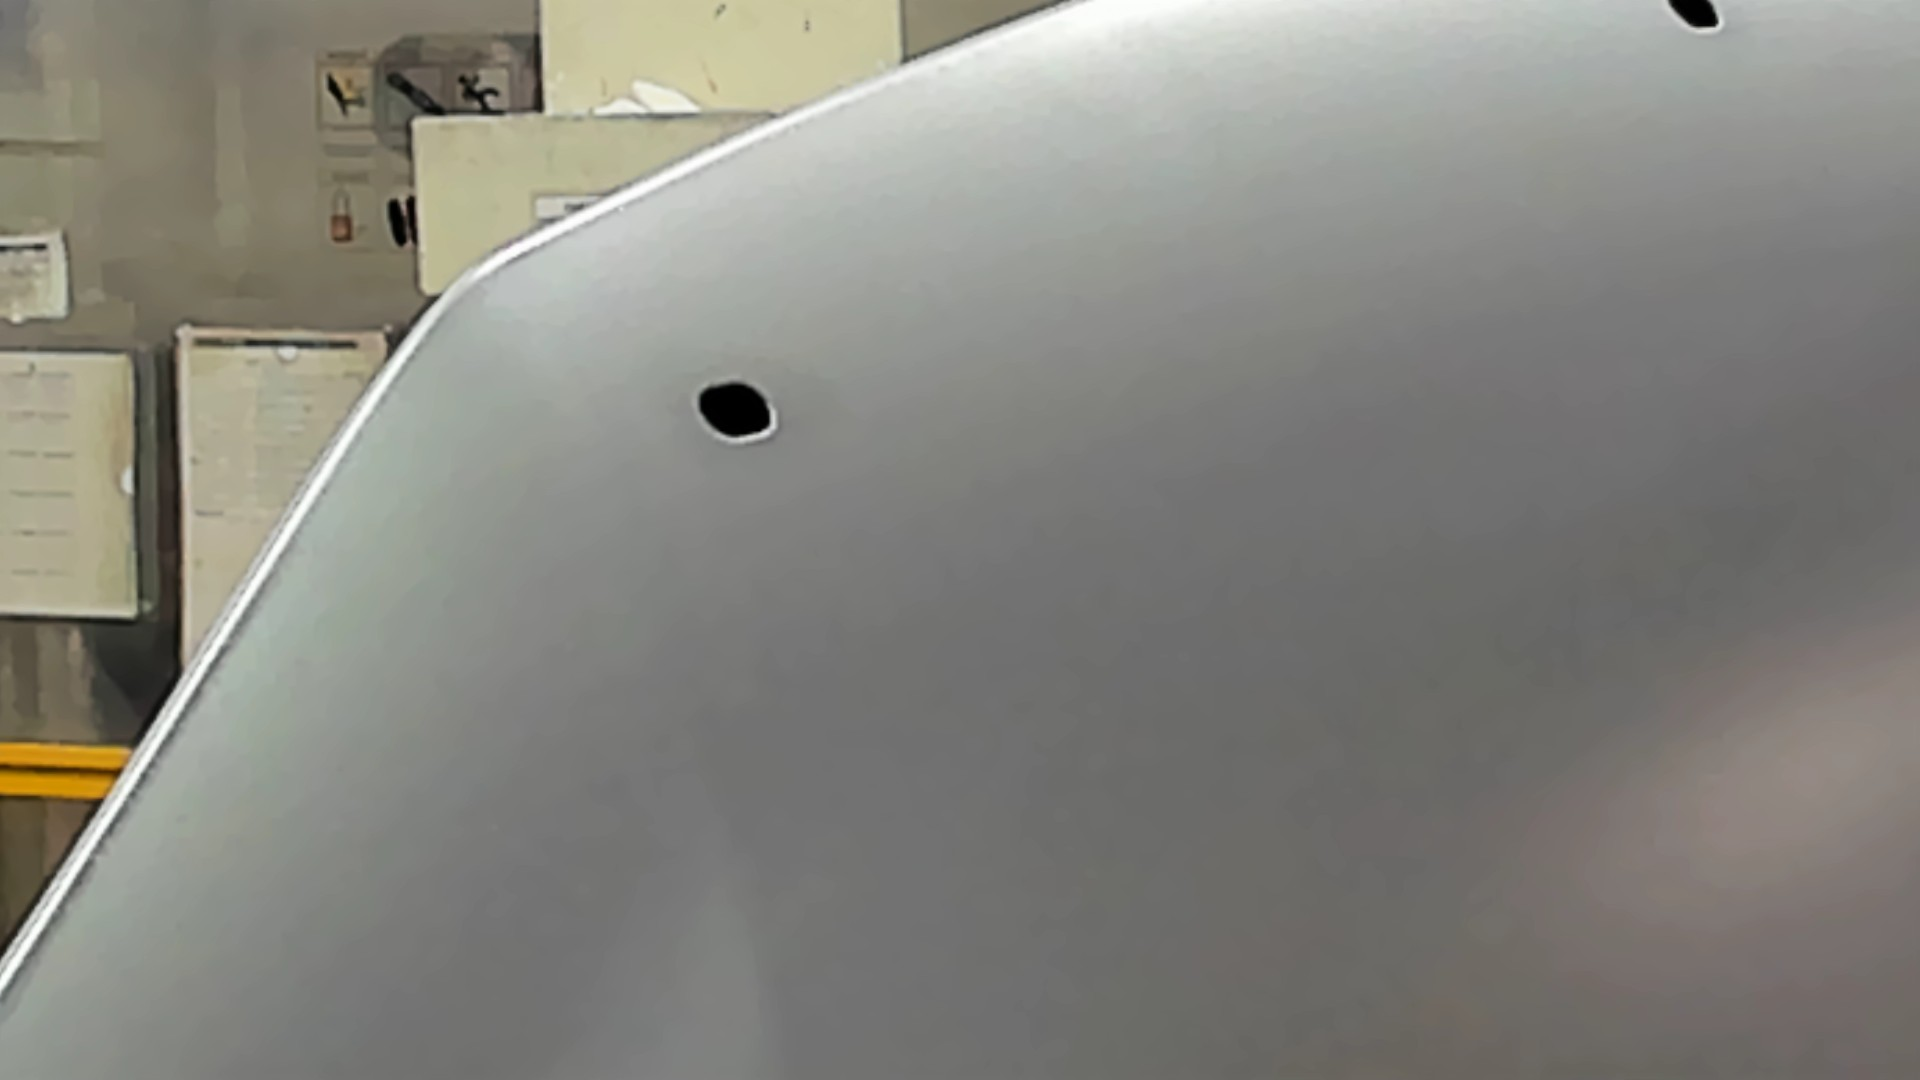amorfo: (682, 368, 789, 459), (1665, 1, 1731, 42)
capo: (907, 142, 1920, 1080)
